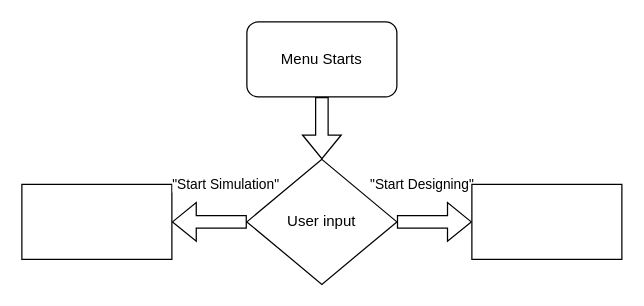
Some shapes in this 644 by 306 pixel diagram are drawn without their labels. Each missing label, with the centre of its shape:
Switch to Battle Simulator: the point at 96,221
Switch to Scenario Designer: the point at 546,221
